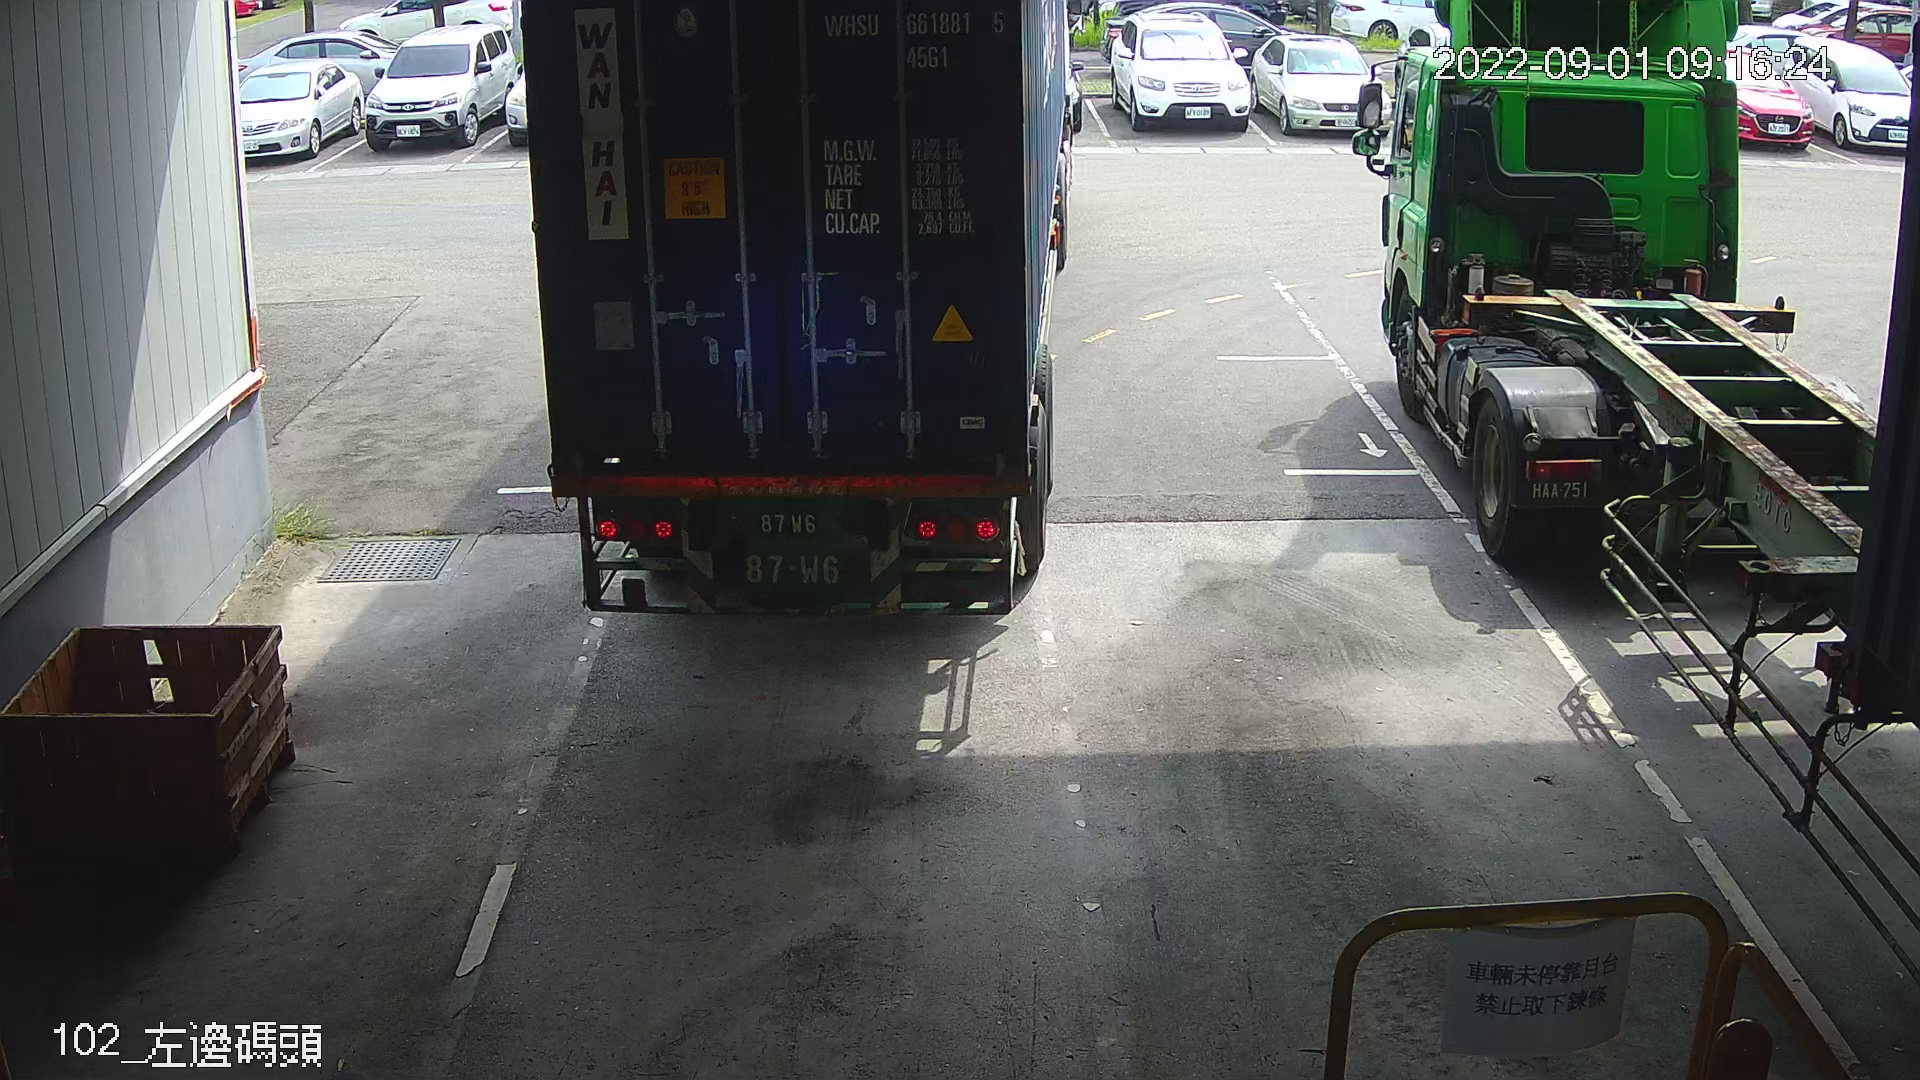container: (816, 4, 1014, 79)
